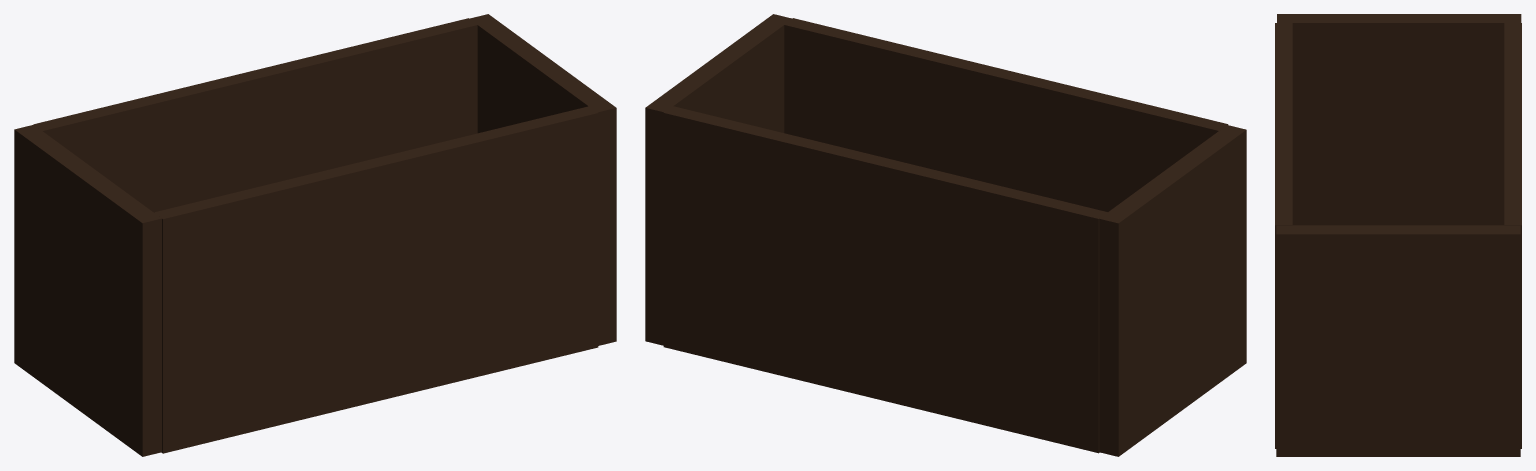
Rendered from open_box.glb.
3 renders of one model, left to right at view 1: azimuth 30°, elevation 25°; view 2: azimuth 150°, elevation 25°; view 3: azimuth 270°, elevation 25°, orthographic. The views are drawn at different scales.
Visible parts, largest first — view 1: Cube.005; view 2: Cube.005; view 3: Cube.005.
Part boxes in pixels (bbox=[...]): Cube.005: bbox=[14, 14, 616, 456]; Cube.005: bbox=[645, 14, 1246, 456]; Cube.005: bbox=[1275, 14, 1521, 456].
Bounding box in the file's own units: 3.27 × 1.55 × 1.55.
